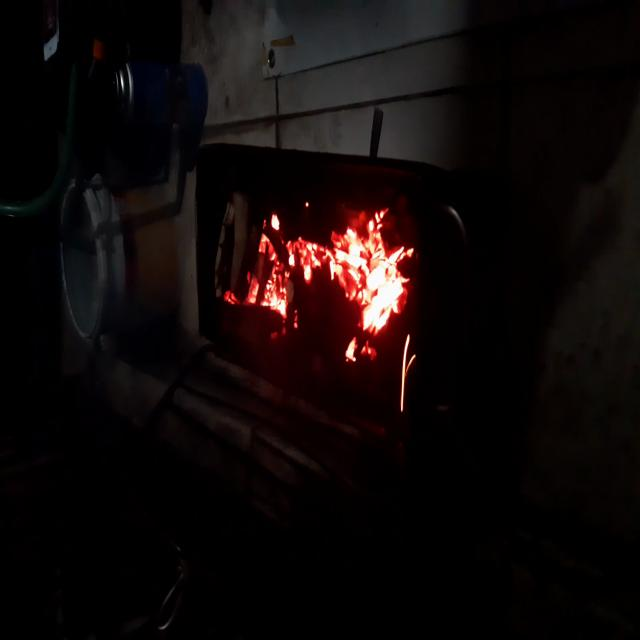Fire: (232, 192, 415, 386)
